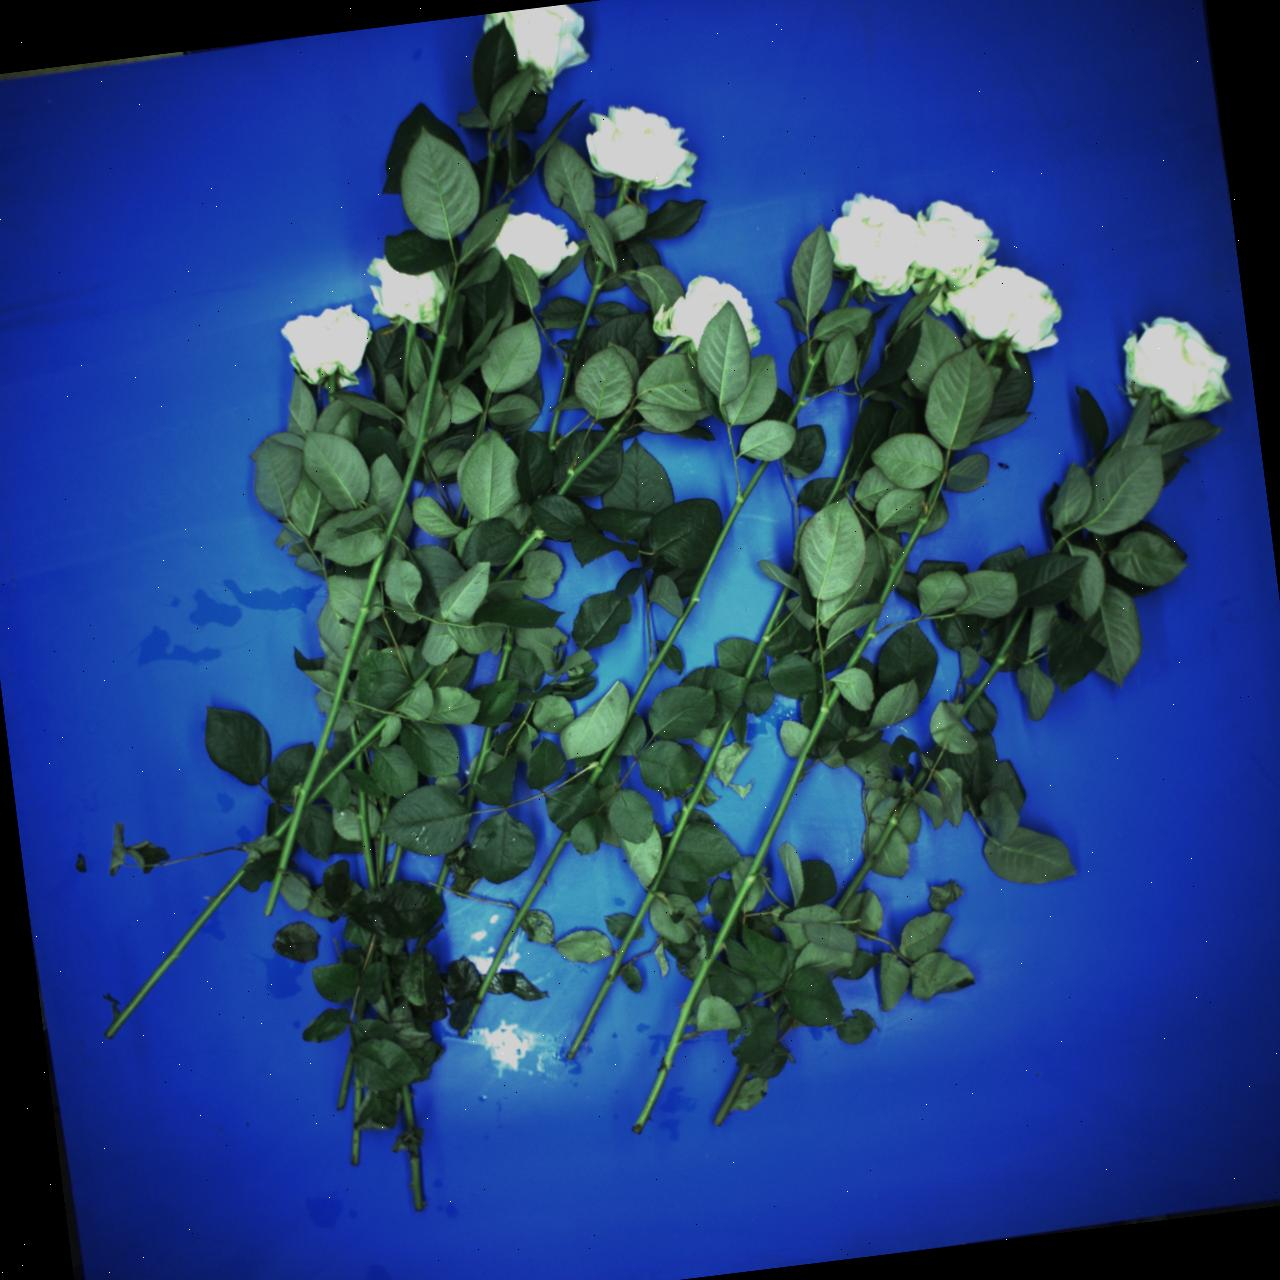Stem: (625, 681, 843, 1136), (257, 543, 395, 919), (620, 455, 769, 730), (101, 853, 257, 1041), (454, 829, 572, 1039), (382, 288, 464, 546), (648, 714, 735, 893), (565, 892, 656, 1062), (947, 605, 1039, 720), (872, 474, 951, 606), (833, 789, 914, 915), (301, 712, 393, 806), (552, 406, 640, 498), (743, 586, 794, 680), (785, 339, 828, 428), (492, 525, 547, 590), (474, 121, 509, 219), (458, 726, 498, 811), (572, 260, 611, 341), (822, 435, 859, 513), (842, 613, 885, 676), (712, 1061, 753, 1128), (586, 722, 626, 785), (355, 788, 377, 890), (399, 324, 416, 401), (493, 627, 517, 683), (1091, 437, 1123, 477), (336, 1053, 356, 1111), (554, 354, 577, 406), (408, 1144, 424, 1212), (1050, 523, 1076, 557), (270, 811, 298, 842), (836, 278, 860, 312), (387, 845, 403, 886), (546, 409, 561, 451), (411, 662, 435, 689), (401, 1084, 415, 1129), (382, 971, 397, 1009), (376, 832, 388, 880), (614, 181, 631, 211), (982, 339, 1000, 367), (910, 768, 928, 791), (380, 794, 393, 824), (436, 863, 451, 887), (474, 414, 486, 442), (454, 497, 468, 523), (352, 1130, 361, 1166), (354, 1077, 362, 1114), (356, 994, 367, 1022), (482, 388, 493, 413), (348, 722, 360, 745), (367, 941, 375, 968), (924, 273, 935, 292), (769, 999, 783, 1014), (415, 931, 429, 944), (355, 753, 363, 772), (447, 537, 456, 553), (380, 952, 389, 967), (789, 561, 798, 577), (329, 375, 336, 394), (1151, 397, 1159, 413), (679, 342, 688, 355), (433, 886, 443, 896), (327, 395, 335, 403), (517, 592, 524, 600), (572, 342, 579, 349)
flower: (1105, 300, 1248, 442), (939, 245, 1078, 373), (813, 182, 942, 306), (574, 95, 707, 202), (651, 264, 774, 367), (899, 193, 1001, 292), (279, 301, 379, 389), (489, 202, 584, 288), (356, 254, 450, 333)
